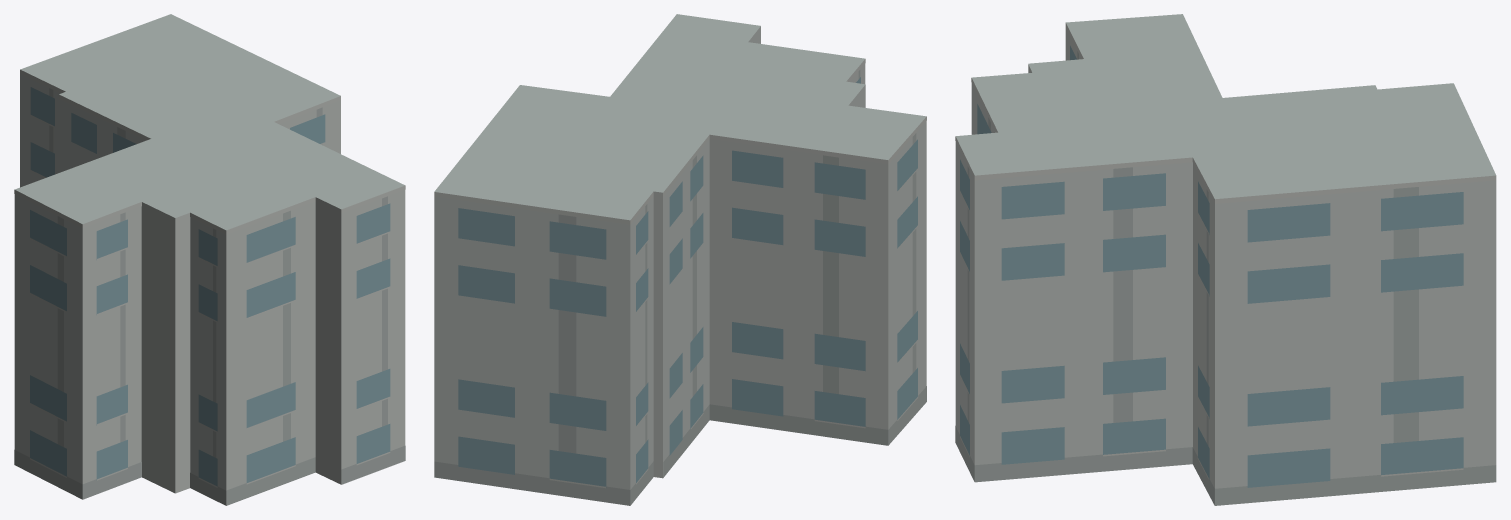
Rendered from survey-upis-32498758.glb.
3 renders of one model, left to right at view 1: azimuth 30°, elevation 25°; view 2: azimuth 150°, elevation 25°; view 3: azimuth 270°, elevation 25°, orthographic. The views are drawn at different scales.
Parts seen in each view (by area): view 1: survey-upis-32498758.tmp; view 2: survey-upis-32498758.tmp; view 3: survey-upis-32498758.tmp.
Boxes of the visible parts, box(x1,y1,x2,y2) form: survey-upis-32498758.tmp: box(14, 14, 405, 505); survey-upis-32498758.tmp: box(434, 14, 926, 505); survey-upis-32498758.tmp: box(955, 14, 1496, 505).
Bounding box in the file's own units: 20.08 × 15.5 × 24.78.
